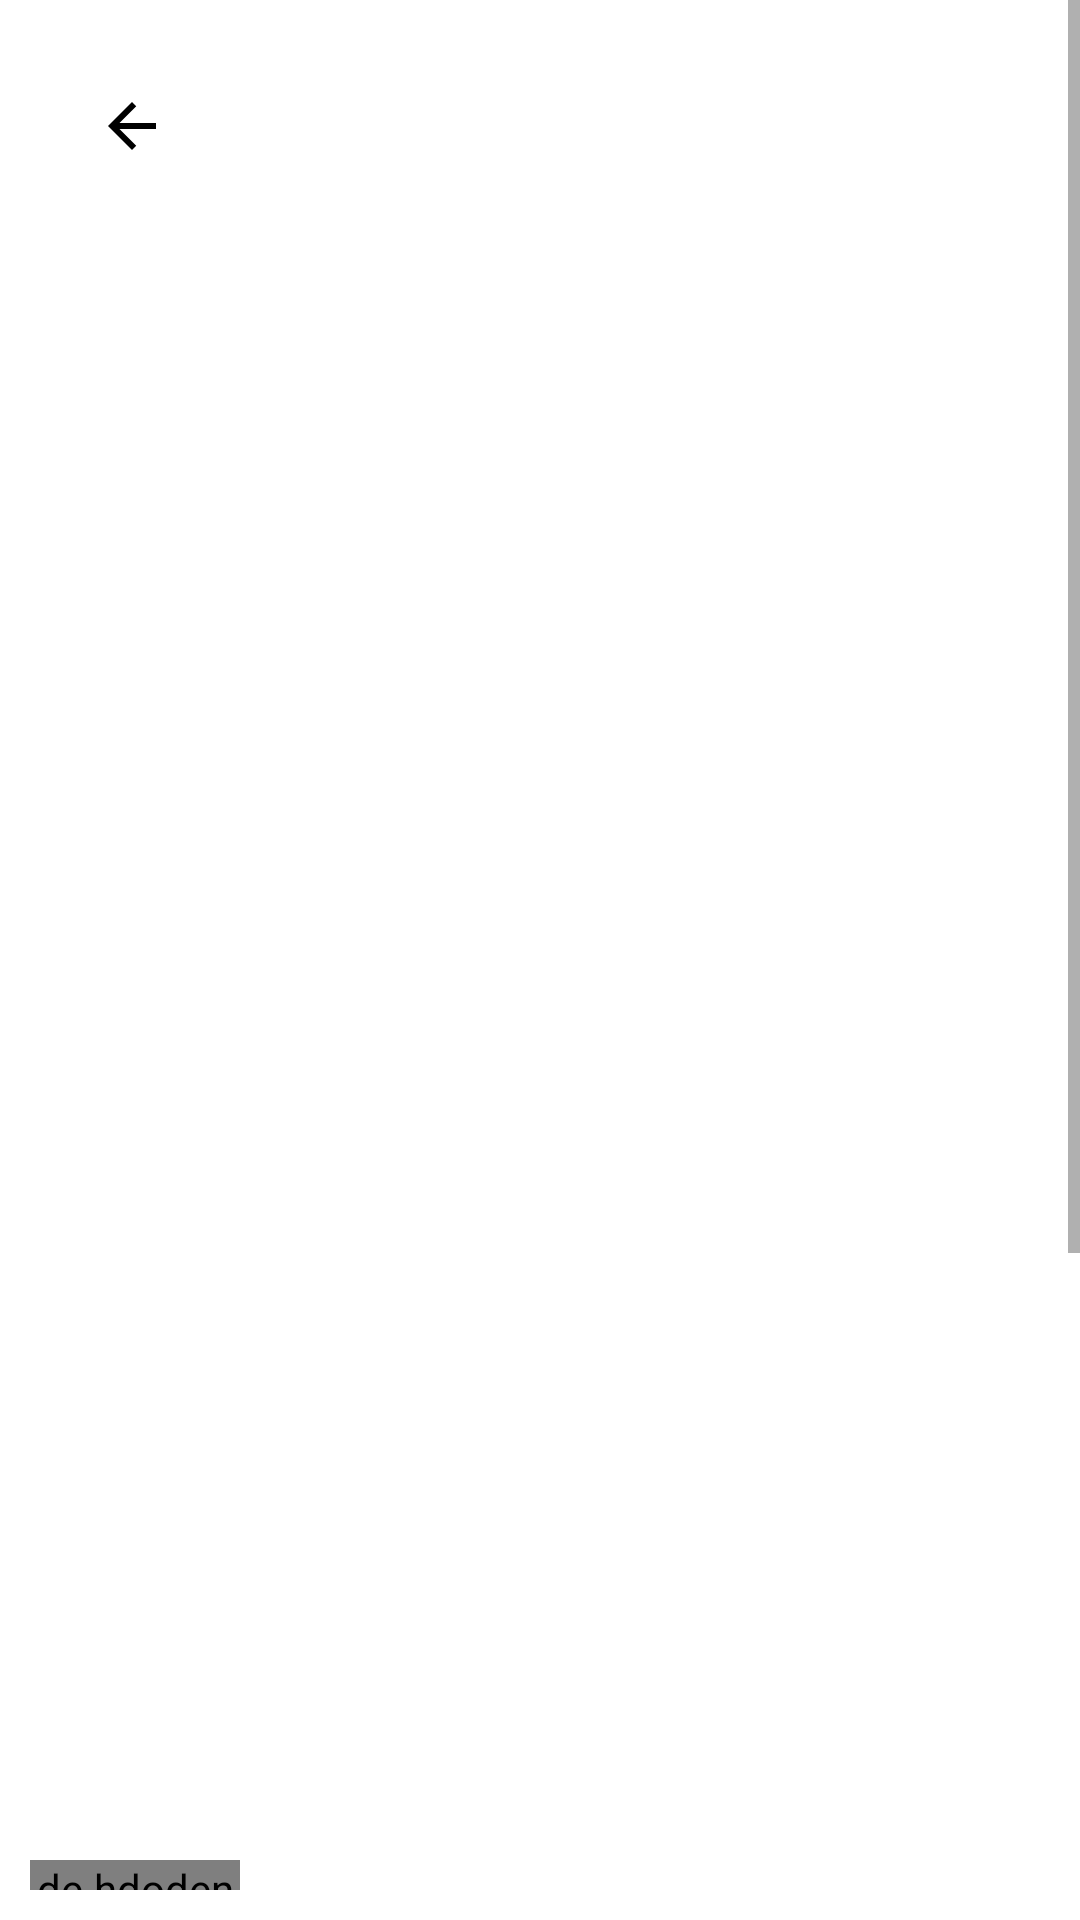

Where to tap for icons on this 1080×1920 app screen, as (x,y):
arrow back: (132,126)
